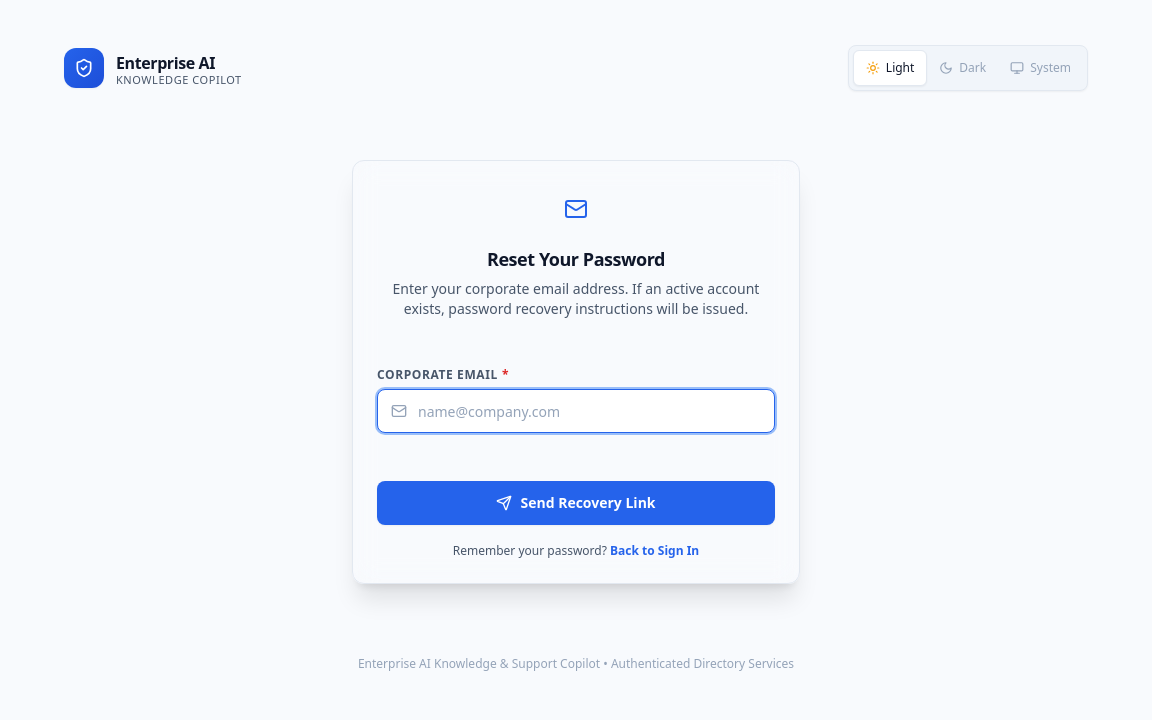
it: ForgotPasswordPage Integration Tests › 3. Submits valid email and renders generic non-revealing confirmation message
In the field labelled "Corporate Email*": x=576, y=411 [377,389,775,433], type "employee@enterprise.com"
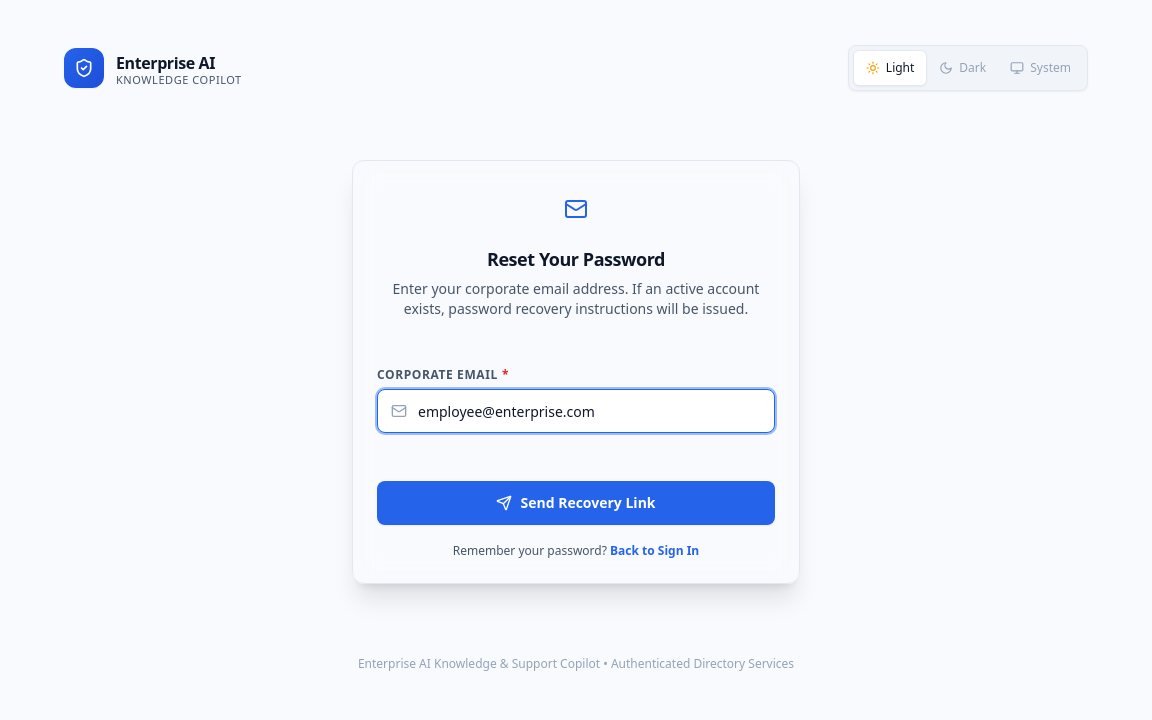
Click the button "Send Recovery Link": x=576, y=503 [377,481,775,525]
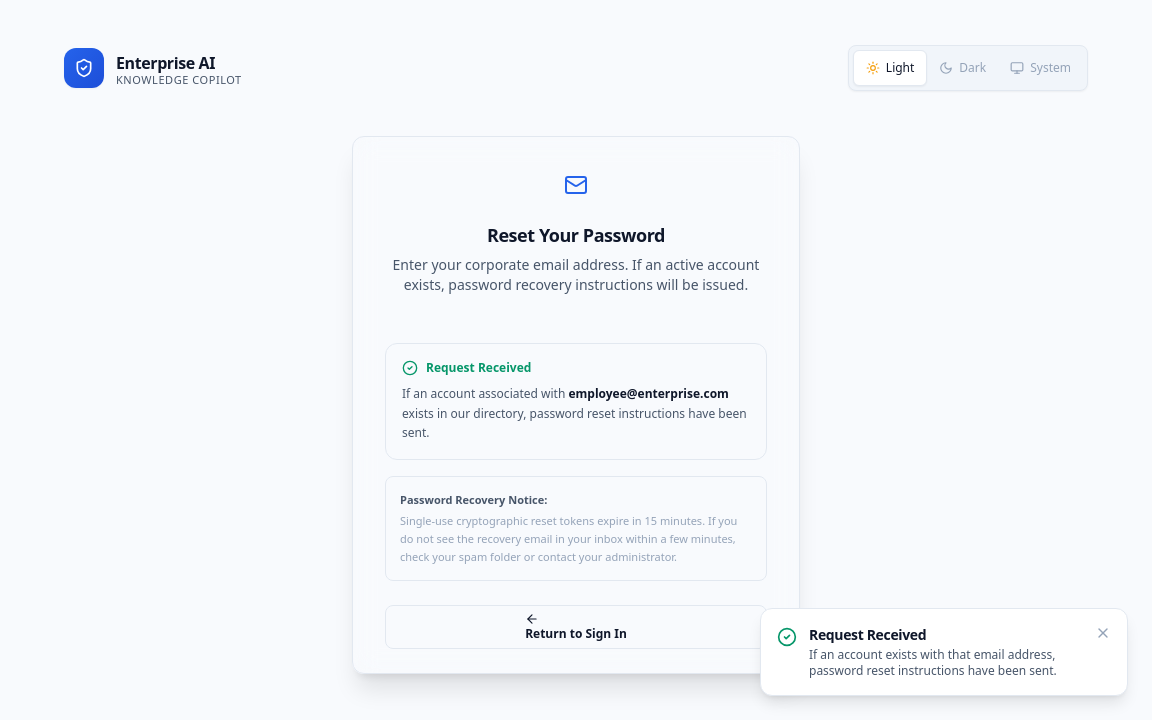
Now the text "Password Recovery Notice:" is shown, box [400,492,547,506]
